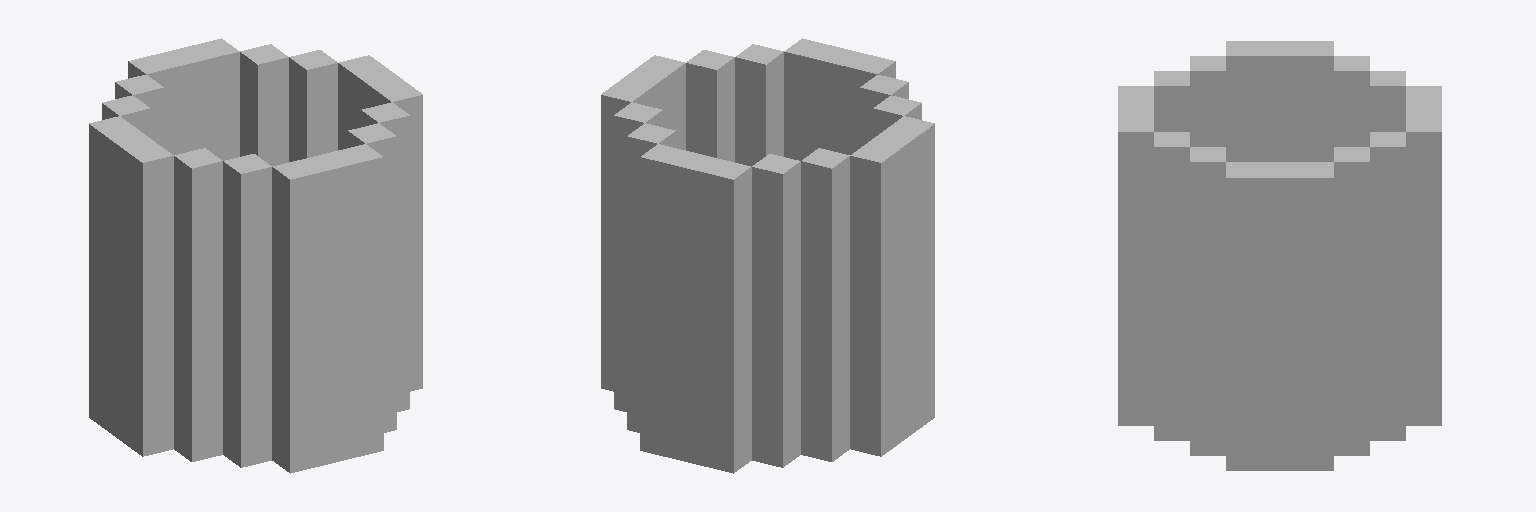
The model's file is Lantern_Glass.obj.
The picture shows the model from 3 angles: view 1: azimuth 30°, elevation 25°; view 2: azimuth 150°, elevation 25°; view 3: azimuth 270°, elevation 25°; orthographic projection.
Parts seen in each view (by area): view 1: object 1; view 2: object 1; view 3: object 1.
Boxes of the visible parts, x1=… form: object 1: x1=89, y1=38, x2=422, y2=473; object 1: x1=601, y1=38, x2=934, y2=473; object 1: x1=1118, y1=41, x2=1441, y2=470.
Bounding box in the file's own units: 0.9 × 0.9 × 0.9.